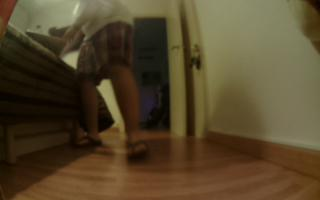person: (73, 1, 154, 163)
